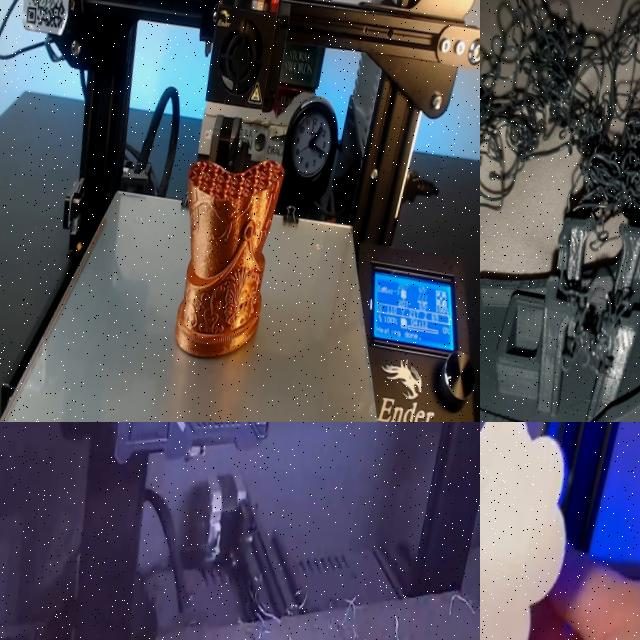spaghetti: (480, 0, 640, 262), (233, 586, 290, 640), (325, 584, 374, 640), (441, 575, 480, 631), (378, 605, 410, 640)
